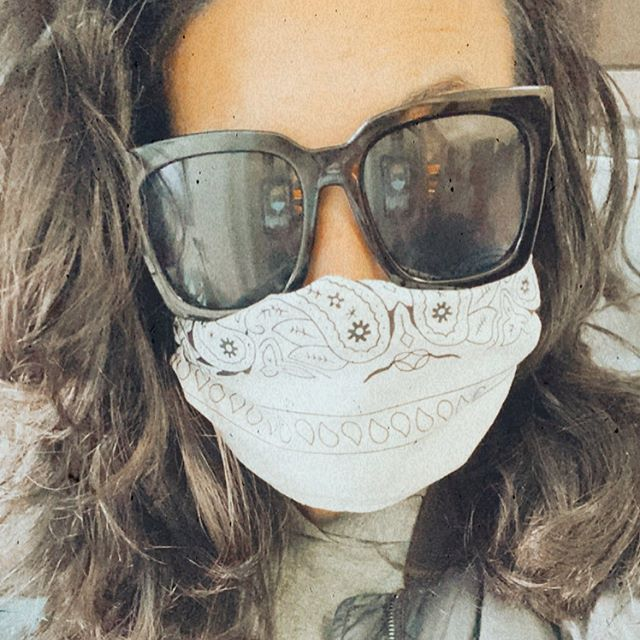homemade: (162, 275, 539, 508)
